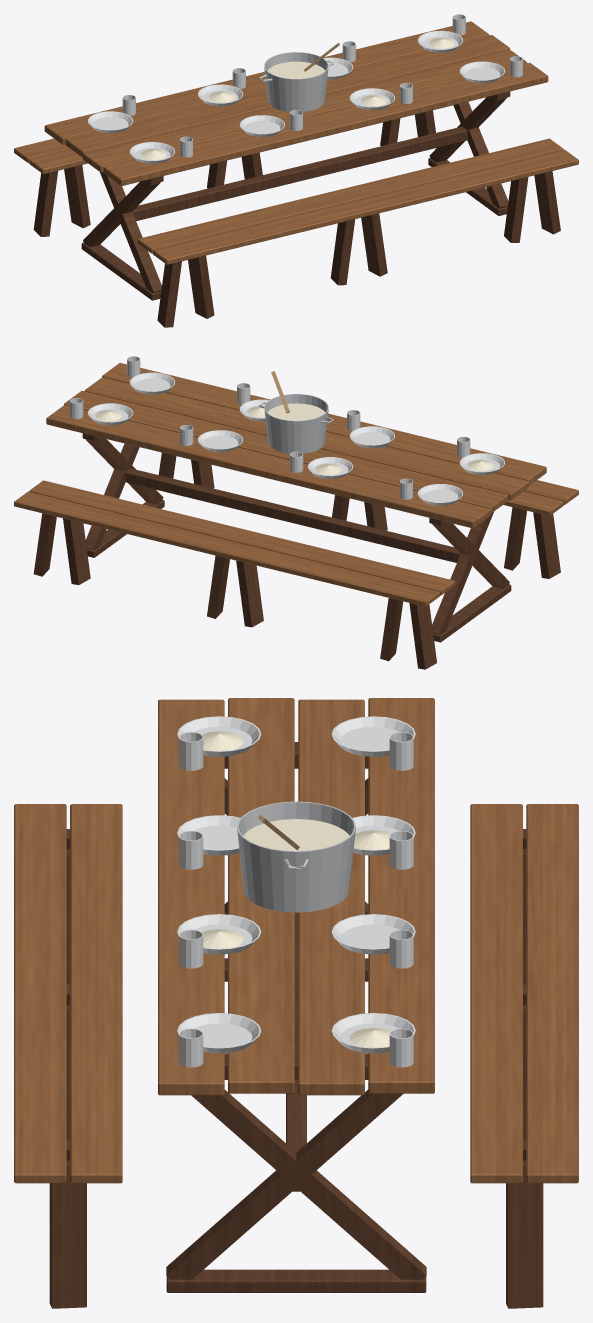
File: mesa_refeitorio.glb
3 views of the same model, one above another, from view 1: azimuth 30°, elevation 25°; view 2: azimuth 150°, elevation 25°; view 3: azimuth 270°, elevation 25° (orthographic). The views are drawn at different scales.
Visible parts, largest first — view 1: mesa_refeitorio_madeira, mesa_refeitorio_madeira_escura, mesa_refeitorio_lata, mesa_refeitorio_aco, mesa_refeitorio_massa; view 2: mesa_refeitorio_madeira, mesa_refeitorio_madeira_escura, mesa_refeitorio_lata, mesa_refeitorio_aco, mesa_refeitorio_massa; view 3: mesa_refeitorio_madeira, mesa_refeitorio_madeira_escura, mesa_refeitorio_lata, mesa_refeitorio_aco, mesa_refeitorio_massa.
Part boxes in pixels (x1=…): mesa_refeitorio_madeira: x1=14, y1=21, x2=578, y2=264; mesa_refeitorio_madeira_escura: x1=33, y1=91, x2=560, y2=327; mesa_refeitorio_lata: x1=88, y1=14, x2=522, y2=163; mesa_refeitorio_aco: x1=259, y1=52, x2=333, y2=111; mesa_refeitorio_massa: x1=141, y1=37, x2=455, y2=159; mesa_refeitorio_madeira: x1=14, y1=363, x2=578, y2=606; mesa_refeitorio_madeira_escura: x1=33, y1=433, x2=560, y2=669; mesa_refeitorio_lata: x1=70, y1=356, x2=504, y2=505; mesa_refeitorio_aco: x1=259, y1=394, x2=333, y2=453; mesa_refeitorio_massa: x1=95, y1=403, x2=493, y2=474; mesa_refeitorio_madeira: x1=14, y1=698, x2=578, y2=1183; mesa_refeitorio_madeira_escura: x1=49, y1=742, x2=543, y2=1308; mesa_refeitorio_lata: x1=177, y1=716, x2=415, y2=1067; mesa_refeitorio_aco: x1=237, y1=801, x2=355, y2=912; mesa_refeitorio_massa: x1=202, y1=731, x2=390, y2=1047.
Bounding box in the file's own units: 2.6 × 1.09 × 1.61.
6 materials, 3 textured.
